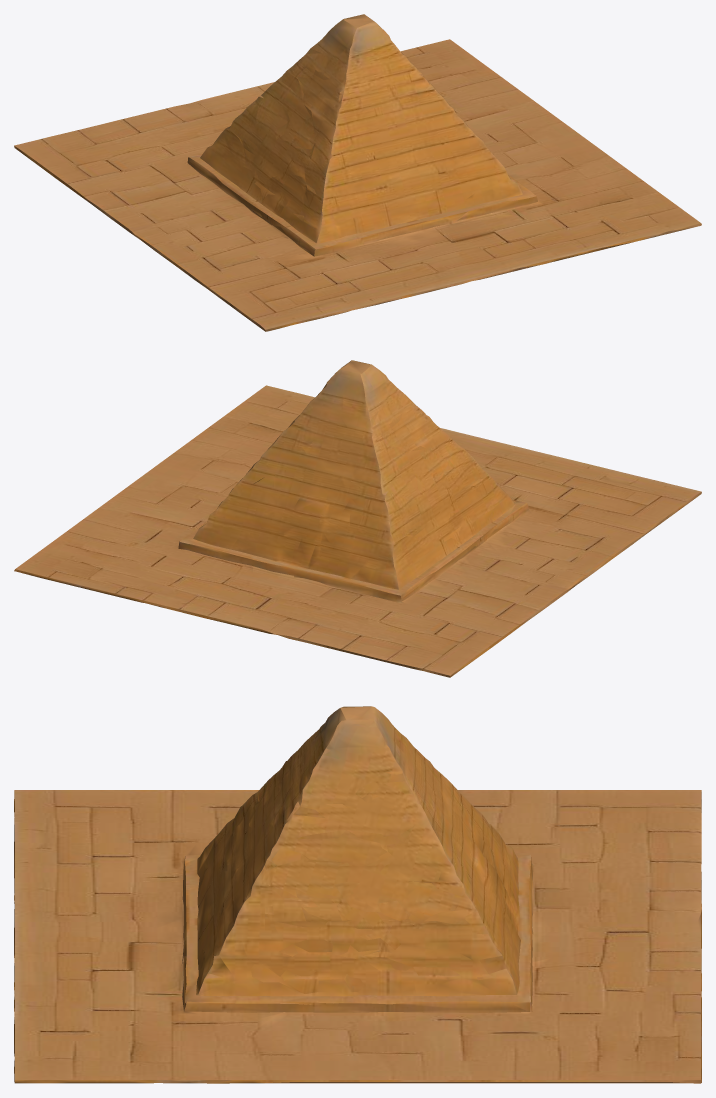
The model's file is great-pyramid-giza.glb.
3 renders of one model, top to bottom at view 1: azimuth 30°, elevation 25°; view 2: azimuth 150°, elevation 25°; view 3: azimuth 270°, elevation 25°, orthographic. The views are drawn at different scales.
Parts seen in each view (by area): view 1: logan-textured.obj; view 2: logan-textured.obj; view 3: logan-textured.obj.
Part boxes in pixels (left/top/right/bottom): logan-textured.obj: left=14, top=14, right=701, bottom=331; logan-textured.obj: left=14, top=360, right=701, bottom=677; logan-textured.obj: left=14, top=706, right=701, bottom=1083.
Bounding box in the file's own units: 1 × 0.363 × 0.9998.
Materials: 1 (1 with a texture image).
